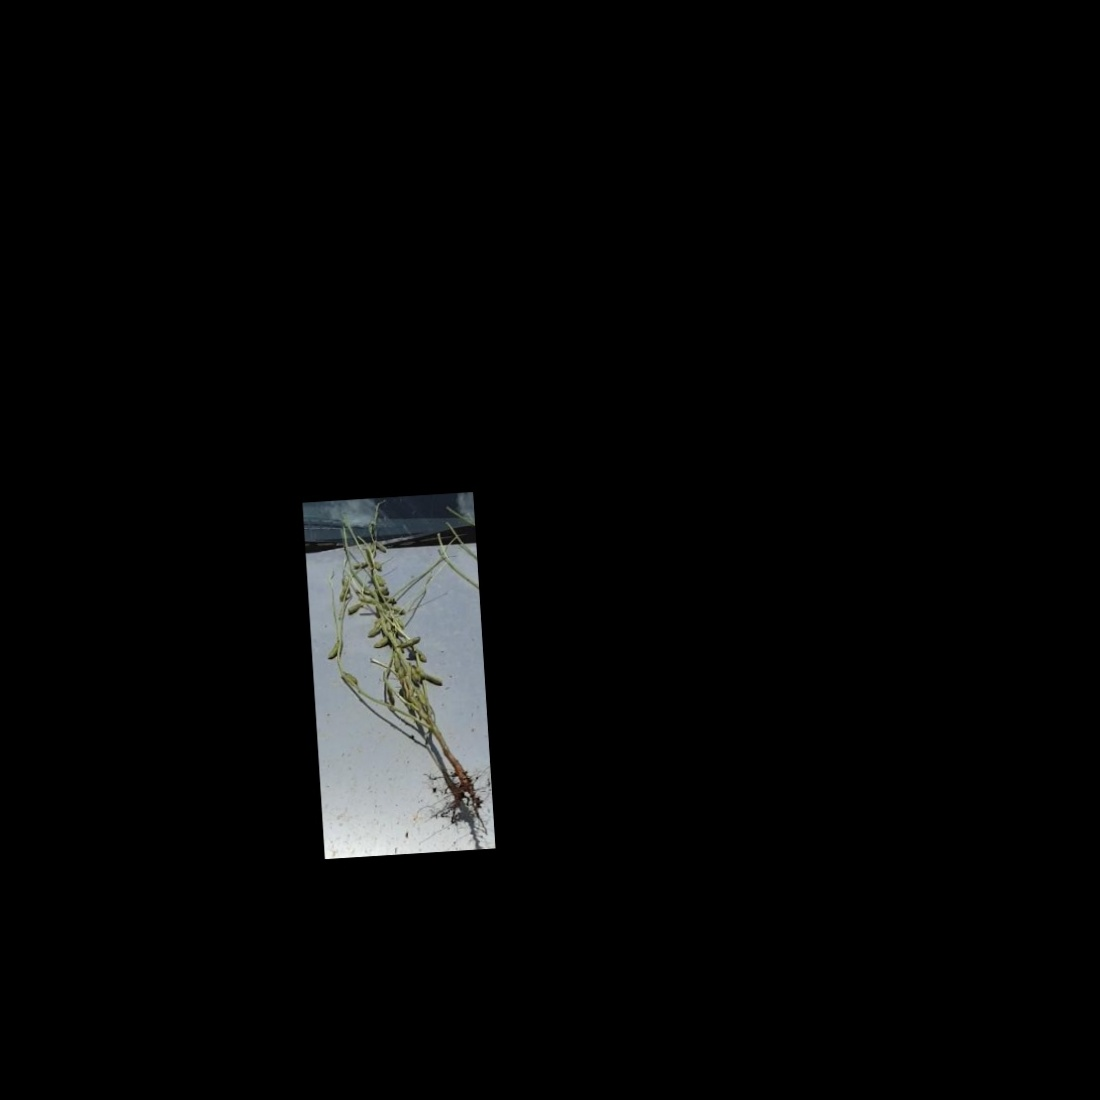pod: (396, 635, 425, 652), (419, 668, 444, 686), (323, 639, 340, 662), (370, 635, 390, 650), (345, 602, 366, 616), (349, 559, 369, 571)
soy: (314, 499, 486, 834)
